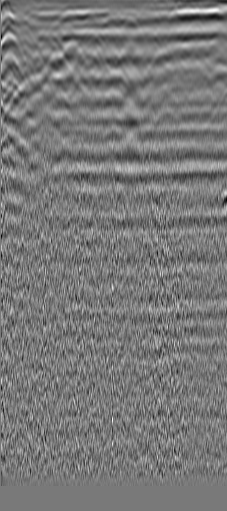가스: (207, 180, 227, 200)
오수: (27, 31, 51, 55)
우수: (166, 26, 186, 46)
